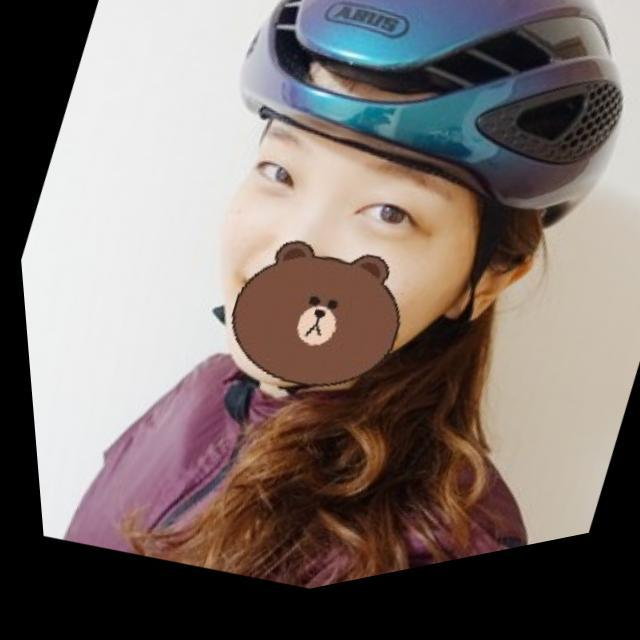Helmet: (209, 0, 624, 402)
